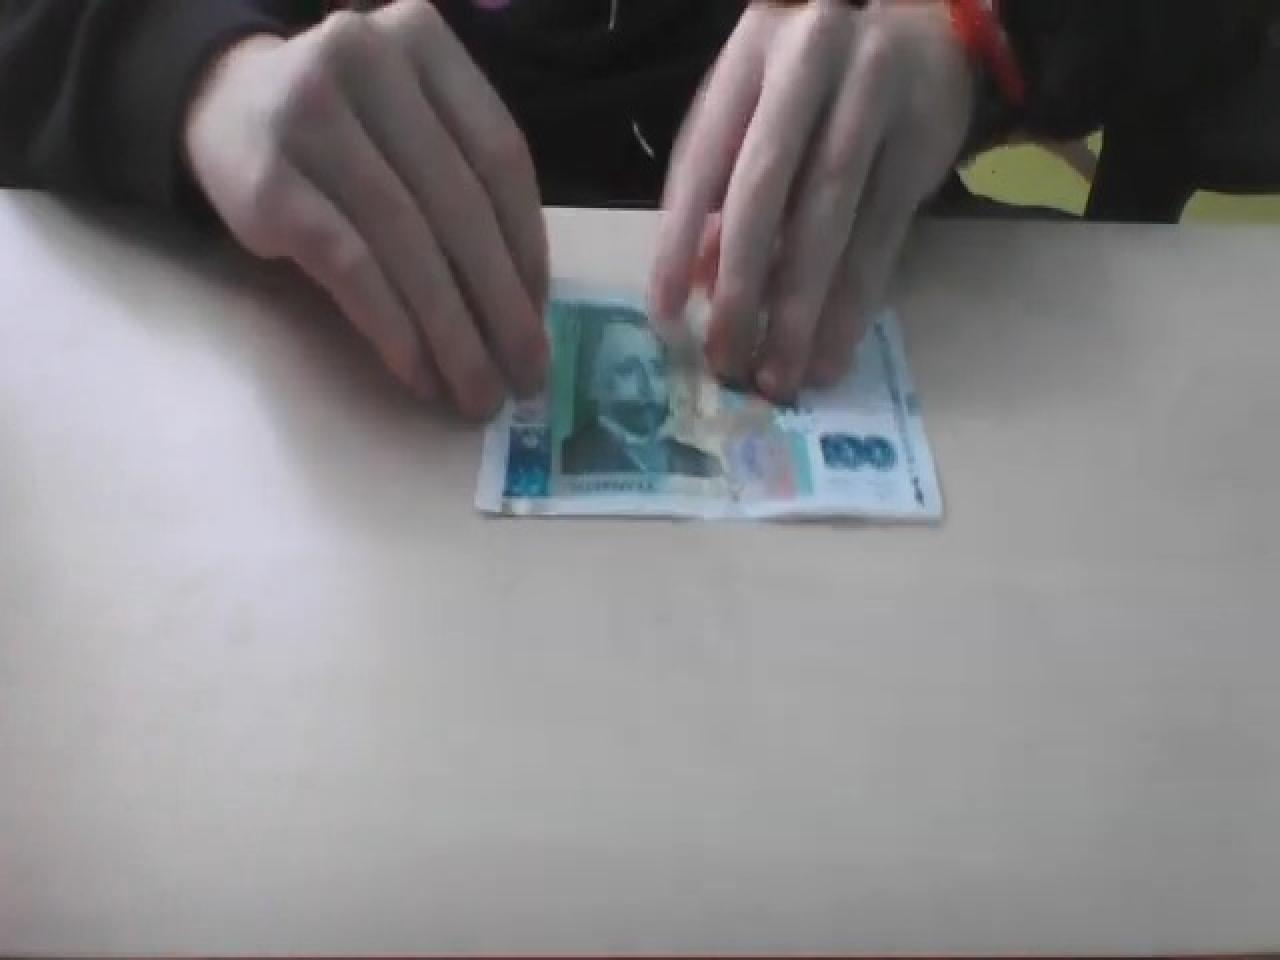100leva: (474, 139, 944, 525)
